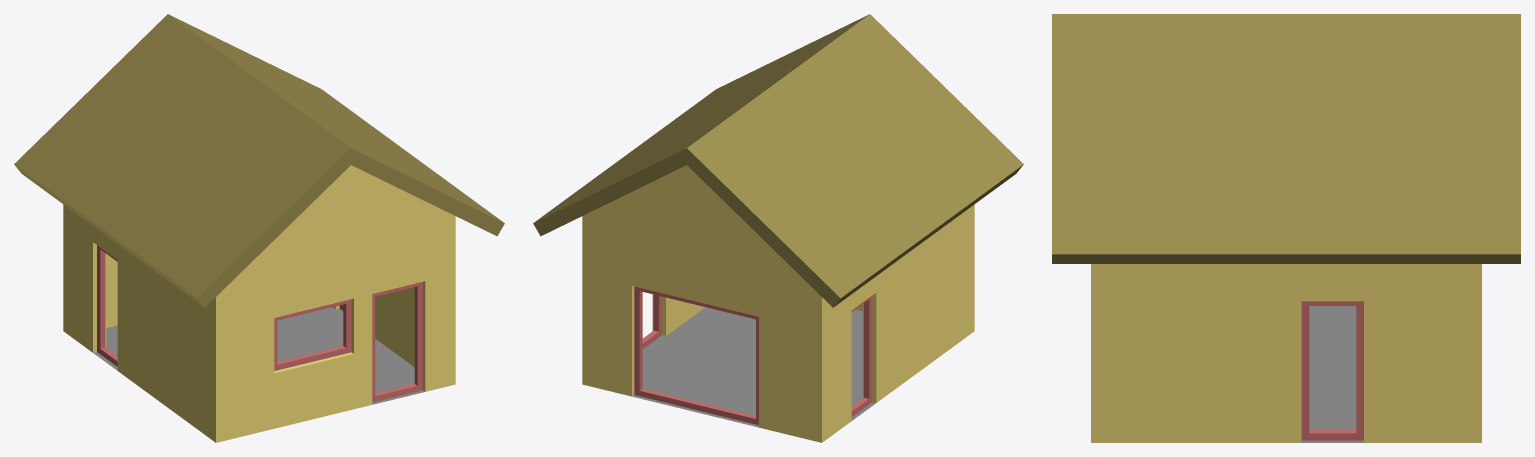
Rendered from result.glb.
3 renders of one model, left to right at view 1: azimuth 30°, elevation 25°; view 2: azimuth 150°, elevation 25°; view 3: azimuth 270°, elevation 25°, orthographic. The views are drawn at different scales.
Visible parts, largest first — view 1: 78dfe9bb-d690-4559-85d1-a9da2cb59ce0__undefined (×2), 74f9ba28-7ddc-4e6a-b5de-3274f14ac4a3__undefined, 26a19b8c-610c-4c1e-abbb-0ca6525f7f6f__Plane_6, 94115594-9f81-41f2-8de8-281e6ccd0f3e__Box, 15ae53b6-3d1f-4e77-b9af-629de22f3723__Box_3, bcc7976f-d117-427b-92a1-d206b61b7648__Box_12; view 2: 78dfe9bb-d690-4559-85d1-a9da2cb59ce0__undefined (×2), 74f9ba28-7ddc-4e6a-b5de-3274f14ac4a3__undefined, 26a19b8c-610c-4c1e-abbb-0ca6525f7f6f__Plane_6, 4067e48c-f67c-486f-a5ce-40d8e2e59fcb__Box_9, bcc7976f-d117-427b-92a1-d206b61b7648__Box_12, 04a8f2e6-3856-4324-8068-dd9b86261523__Box_15; view 3: 78dfe9bb-d690-4559-85d1-a9da2cb59ce0__undefined, 74f9ba28-7ddc-4e6a-b5de-3274f14ac4a3__undefined, 26a19b8c-610c-4c1e-abbb-0ca6525f7f6f__Plane_6, 04a8f2e6-3856-4324-8068-dd9b86261523__Box_15.
Boxes of the visible parts, x1=… form: 78dfe9bb-d690-4559-85d1-a9da2cb59ce0__undefined (×2): x1=14, y1=14, x2=504, y2=307; 74f9ba28-7ddc-4e6a-b5de-3274f14ac4a3__undefined: x1=63, y1=165, x2=455, y2=442; 26a19b8c-610c-4c1e-abbb-0ca6525f7f6f__Plane_6: x1=93, y1=307, x2=424, y2=404; 94115594-9f81-41f2-8de8-281e6ccd0f3e__Box: x1=372, y1=282, x2=422, y2=402; 15ae53b6-3d1f-4e77-b9af-629de22f3723__Box_3: x1=274, y1=299, x2=351, y2=370; bcc7976f-d117-427b-92a1-d206b61b7648__Box_12: x1=97, y1=245, x2=117, y2=366; 78dfe9bb-d690-4559-85d1-a9da2cb59ce0__undefined (×2): x1=533, y1=14, x2=1023, y2=307; 74f9ba28-7ddc-4e6a-b5de-3274f14ac4a3__undefined: x1=582, y1=165, x2=974, y2=442; 26a19b8c-610c-4c1e-abbb-0ca6525f7f6f__Plane_6: x1=632, y1=307, x2=875, y2=427; 4067e48c-f67c-486f-a5ce-40d8e2e59fcb__Box_9: x1=634, y1=286, x2=758, y2=425; bcc7976f-d117-427b-92a1-d206b61b7648__Box_12: x1=851, y1=296, x2=872, y2=416; 04a8f2e6-3856-4324-8068-dd9b86261523__Box_15: x1=642, y1=294, x2=661, y2=348; 78dfe9bb-d690-4559-85d1-a9da2cb59ce0__undefined: x1=1052, y1=14, x2=1520, y2=263; 74f9ba28-7ddc-4e6a-b5de-3274f14ac4a3__undefined: x1=1091, y1=264, x2=1481, y2=442; 26a19b8c-610c-4c1e-abbb-0ca6525f7f6f__Plane_6: x1=1301, y1=306, x2=1363, y2=442; 04a8f2e6-3856-4324-8068-dd9b86261523__Box_15: x1=1301, y1=301, x2=1363, y2=440.
Size of the model in its own units: 582 by 500 by 600.
